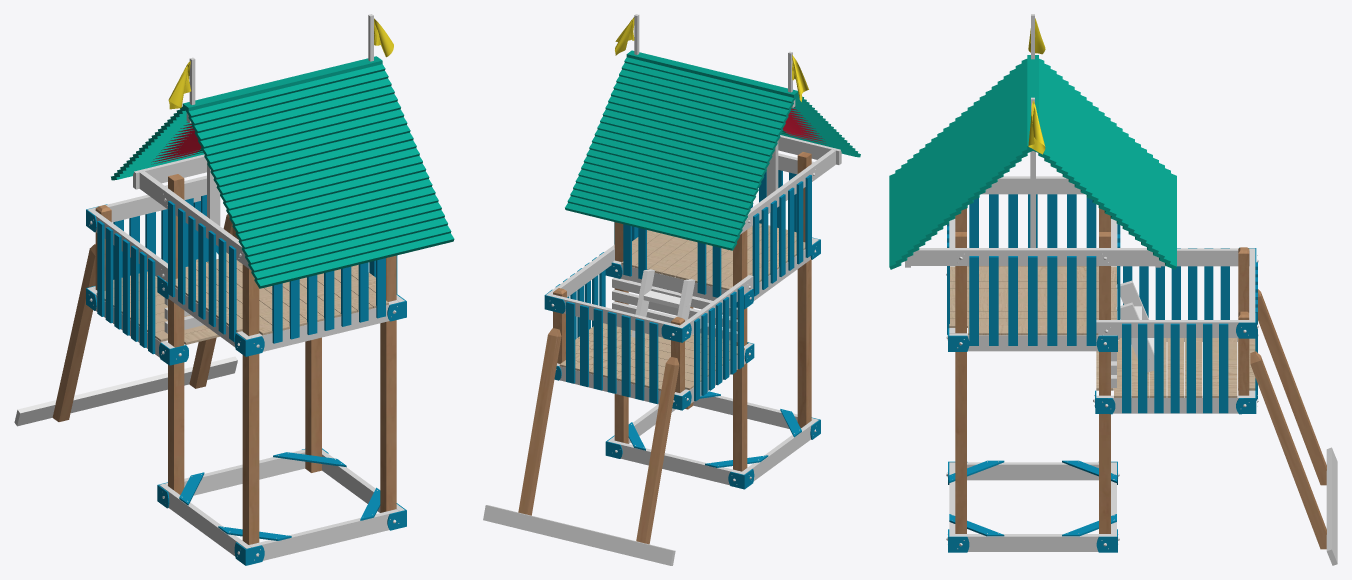
File: P-DSMT.055c2f3c.glb
The picture shows the model from 3 angles, left to right: view 1: azimuth 30°, elevation 25°; view 2: azimuth 150°, elevation 25°; view 3: azimuth 270°, elevation 25°; orthographic projection. The views are drawn at different scales.
Parts seen in each view (by area): view 1: roof_poly_back,#004983,#01664b,#ffcb05,#93293b, Cube603, Cube603_3, Plane091, Cube603_1, Plane091_3, Deluxe_corners001,_colorize_, Cube110, Deluxe_Joint001,_colorize_, Plane091_1, Summit_corner001,_colorize_, roof_canopy,#004983,#01664b,#ffcb05,#93293b,tricolors (+22 smaller); view 2: roof_poly_back,#004983,#01664b,#ffcb05,#93293b, Cube603, Plane091, Plane091_3, Cube603_3, Cube603_1, Plane091_1, Cube110, Deluxe_corners001,_colorize_, Summit_corner001,_colorize_, Cube195, Deluxe_Joint001,_colorize_ (+24 smaller); view 3: roof_poly_back,#004983,#01664b,#ffcb05,#93293b, Cube603, Plane091_3, Cube603_3, Plane091, Cube603_1, Plane091_1, Deluxe_corners001,_colorize_, Deluxe_Joint001,_colorize_, Cube195, Summit_corner001,_colorize_, fence,_colorize__34 (+15 smaller).
Part boxes in pixels (left/top/right/bottom): roof_poly_back,#004983,#01664b,#ffcb05,#93293b: left=111, top=64, right=454, bottom=288; Cube603: left=133, top=14, right=404, bottom=560; Cube603_3: left=168, top=174, right=396, bottom=544; Plane091: left=14, top=194, right=237, bottom=426; Cube603_1: left=175, top=256, right=388, bottom=335; Plane091_3: left=52, top=205, right=238, bottom=421; Deluxe_corners001,_colorize_: left=157, top=275, right=406, bottom=565; Cube110: left=182, top=56, right=382, bottom=111; Deluxe_Joint001,_colorize_: left=179, top=452, right=380, bottom=540; Plane091_1: left=96, top=252, right=242, bottom=344; Summit_corner001,_colorize_: left=86, top=204, right=188, bottom=365; roof_canopy,#004983,#01664b,#ffcb05,#93293b,tricolors: left=151, top=122, right=202, bottom=164; roof_poly_back,#004983,#01664b,#ffcb05,#93293b: left=565, top=57, right=860, bottom=250; Cube603: left=607, top=14, right=841, bottom=485; Plane091: left=483, top=245, right=753, bottom=565; Plane091_3: left=518, top=288, right=684, bottom=544; Cube603_3: left=614, top=152, right=811, bottom=471; Cube603_1: left=621, top=223, right=805, bottom=290; Plane091_1: left=559, top=323, right=744, bottom=390; Cube110: left=626, top=50, right=798, bottom=97; Deluxe_corners001,_colorize_: left=605, top=237, right=820, bottom=489; Summit_corner001,_colorize_: left=544, top=289, right=754, bottom=410; Cube195: left=631, top=269, right=695, bottom=337; Deluxe_Joint001,_colorize_: left=628, top=391, right=801, bottom=467; roof_poly_back,#004983,#01664b,#ffcb05,#93293b: left=889, top=58, right=1176, bottom=269; Cube603: left=905, top=14, right=1160, bottom=551; Plane091_3: left=1238, top=247, right=1326, bottom=549; Cube603_3: left=955, top=208, right=1110, bottom=533; Plane091: left=1096, top=248, right=1337, bottom=565; Cube603_1: left=949, top=266, right=1116, bottom=335; Plane091_1: left=1096, top=338, right=1255, bottom=397; Deluxe_corners001,_colorize_: left=948, top=266, right=1117, bottom=552; Deluxe_Joint001,_colorize_: left=949, top=460, right=1116, bottom=536; Cube195: left=1116, top=280, right=1154, bottom=372; Summit_corner001,_colorize_: left=1095, top=247, right=1256, bottom=414; fence,_colorize__34: left=1047, top=256, right=1057, bottom=345.
Size of the model in its own units: 2.2 by 4.46 by 3.96.
Materials: 47 (5 with a texture image).
